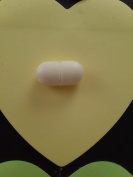Aferin: (36, 60, 85, 87)
